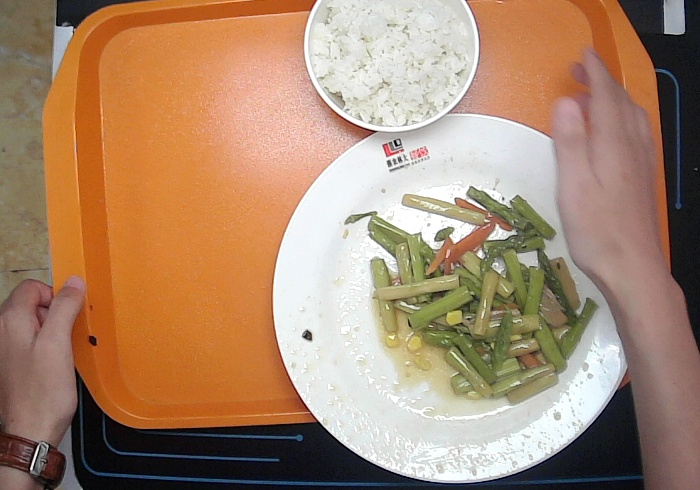ZNLD-Da_Yuan_Pan: (268, 105, 646, 477)
ZNLD-Fan_Wan: (300, 1, 475, 133)
